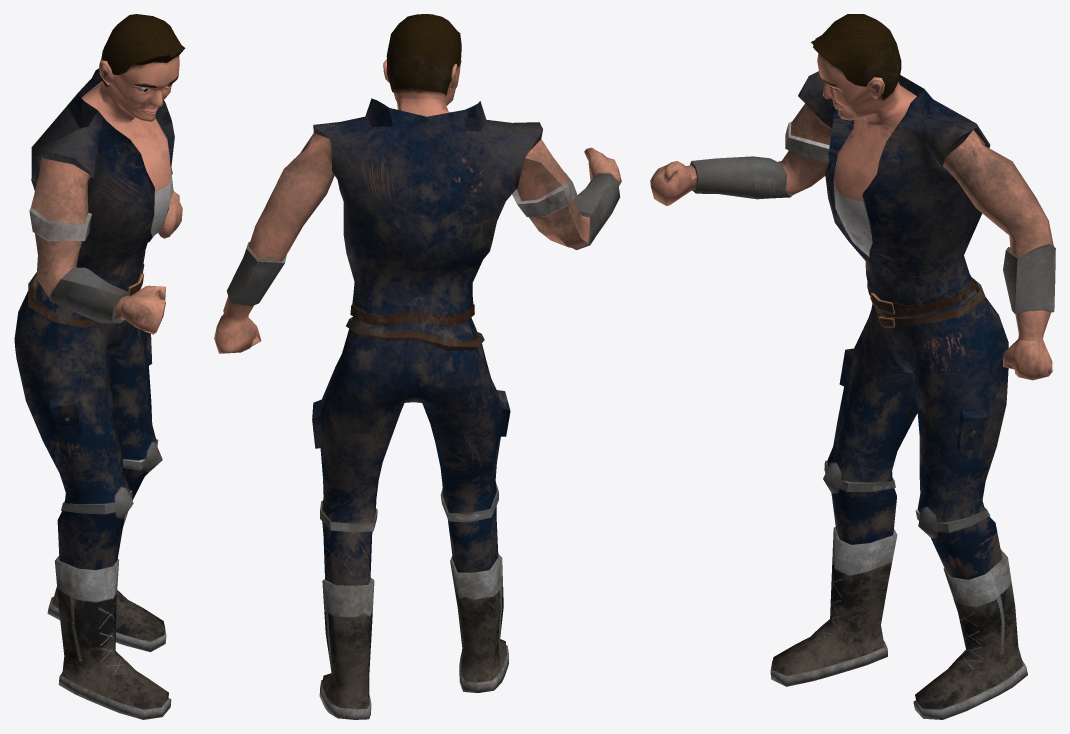
The model's file is Anim_puerta_mal_jugador.0031.obj.
3 views of the same model, side by side, from view 1: azimuth 30°, elevation 25°; view 2: azimuth 150°, elevation 25°; view 3: azimuth 270°, elevation 25° (orthographic). The views are drawn at different scales.
Parts seen in each view (by area): view 1: polySurface1; view 2: polySurface1; view 3: polySurface1.
Boxes of the visible parts, left/top/right/bottom form: polySurface1: left=14, top=14, right=185, bottom=719; polySurface1: left=214, top=14, right=621, bottom=719; polySurface1: left=650, top=14, right=1055, bottom=719.
Bounding box in the file's own units: 3.8 × 9.48 × 5.17.
